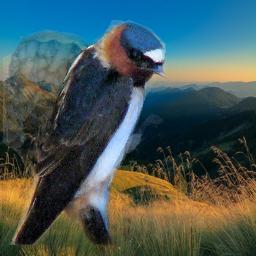Swallow: (3, 20, 166, 245)
